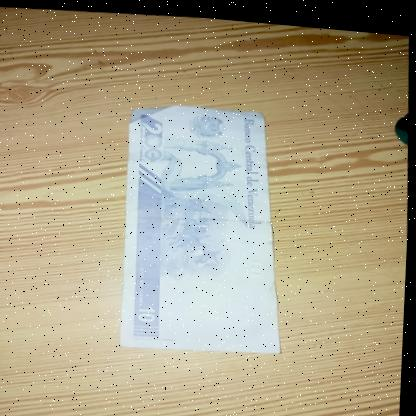ten-back-vef: (113, 96, 294, 361)
